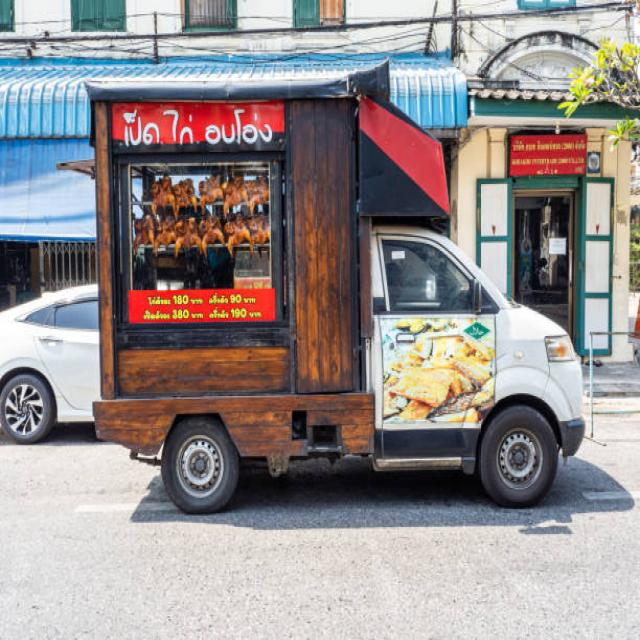Emperan: (51, 63, 599, 523)
